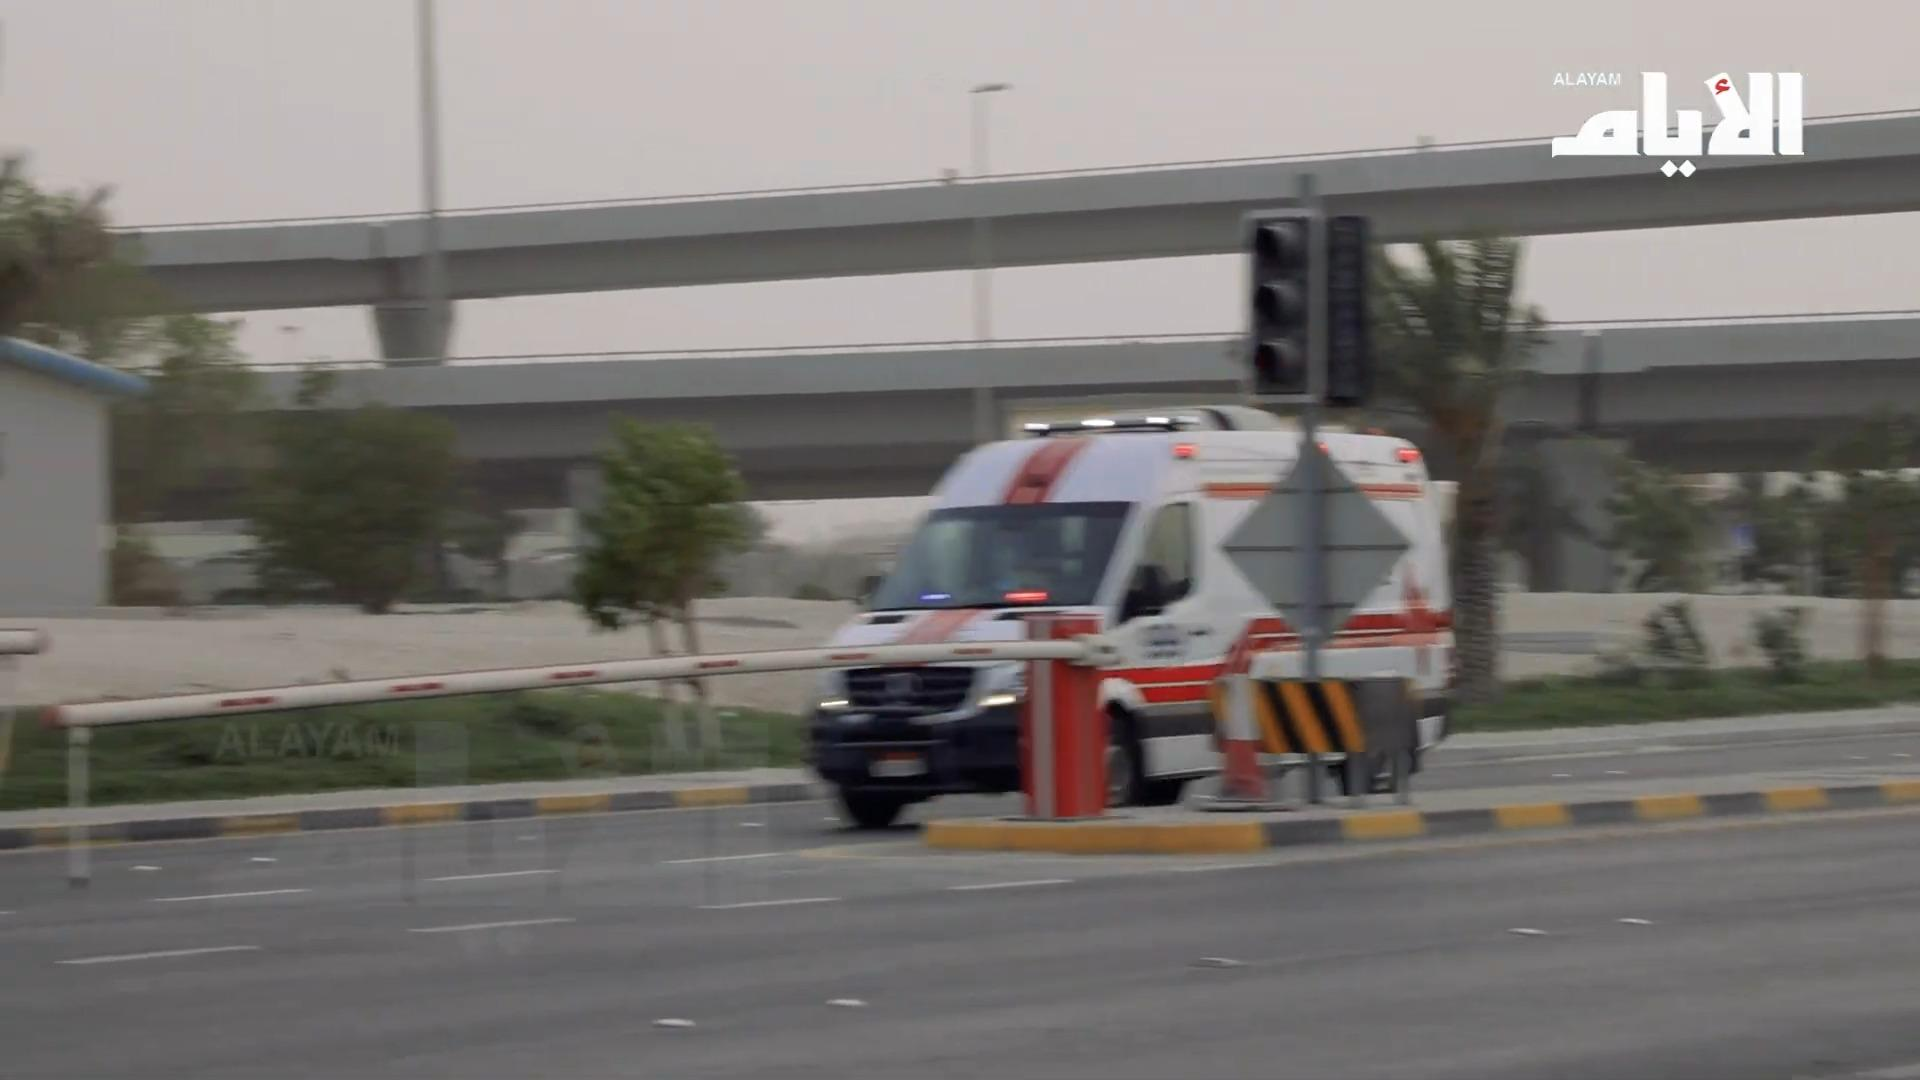ambulance_on: (812, 405, 1458, 831)
